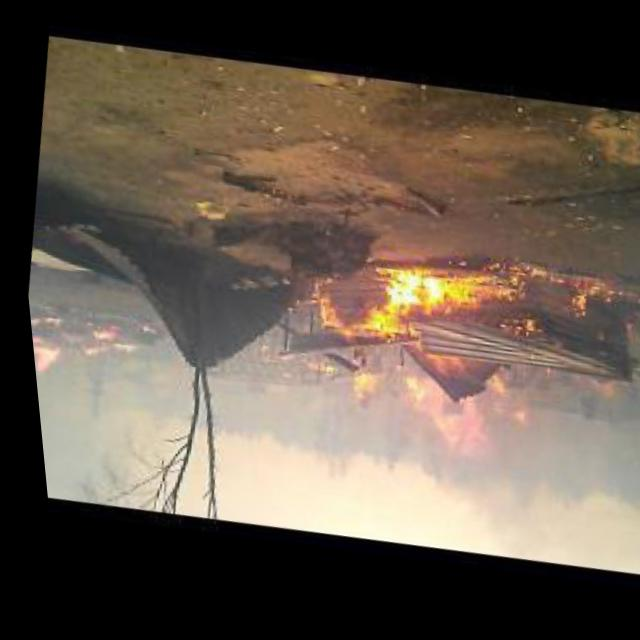Fire: (280, 241, 625, 493)
